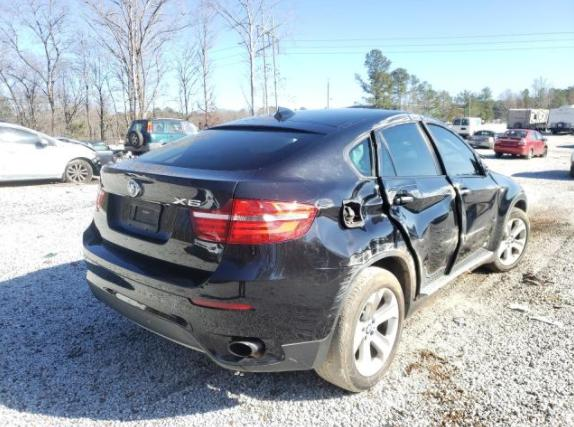Back-bumper: (84, 194, 361, 373)
Back-door: (375, 119, 460, 297)
Back-wheel: (321, 266, 407, 391)
Back-window: (382, 123, 437, 175), (346, 135, 373, 181), (379, 137, 396, 175)
Back-windshield: (139, 127, 326, 171)
Fender: (488, 171, 524, 249)
Front-door: (423, 118, 500, 266)
Front-wheel: (488, 207, 530, 271)
Front-window: (428, 124, 481, 175)
Mirror: (474, 154, 488, 177)
Quarter-panel: (233, 153, 417, 300)
Rocker-panel: (406, 248, 497, 320)
Roof: (241, 108, 397, 127)
Tail-light: (190, 195, 318, 245)
Trunk: (102, 121, 336, 209)
